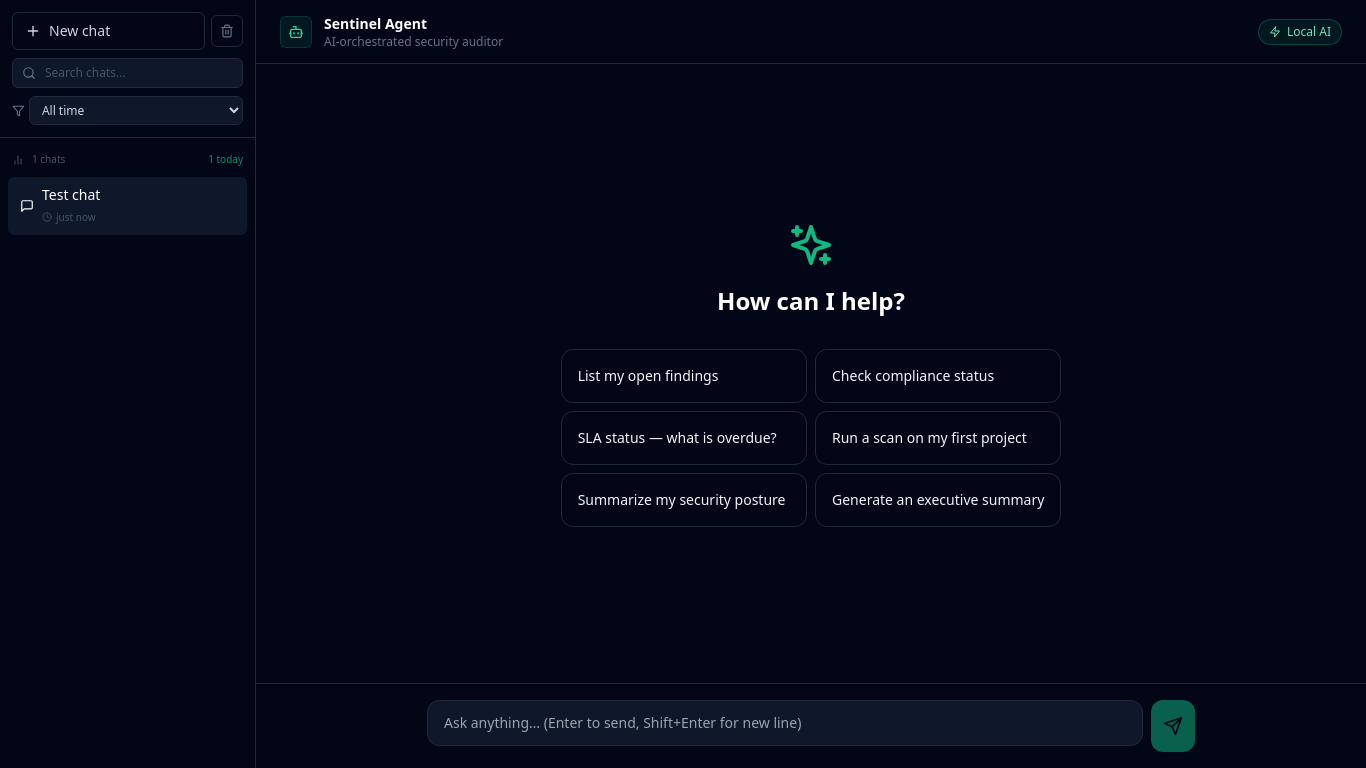
Scenario: Chat — conversations list and sidebar › searches/filters conversations
The width and height of the screenshot is (1366, 768).
Expected: the text "Test chat" is shown, [42,185,100,204]
In the field with placeholder "Search chats...": [128, 73] box [12,58,243,88], type "nomatch"
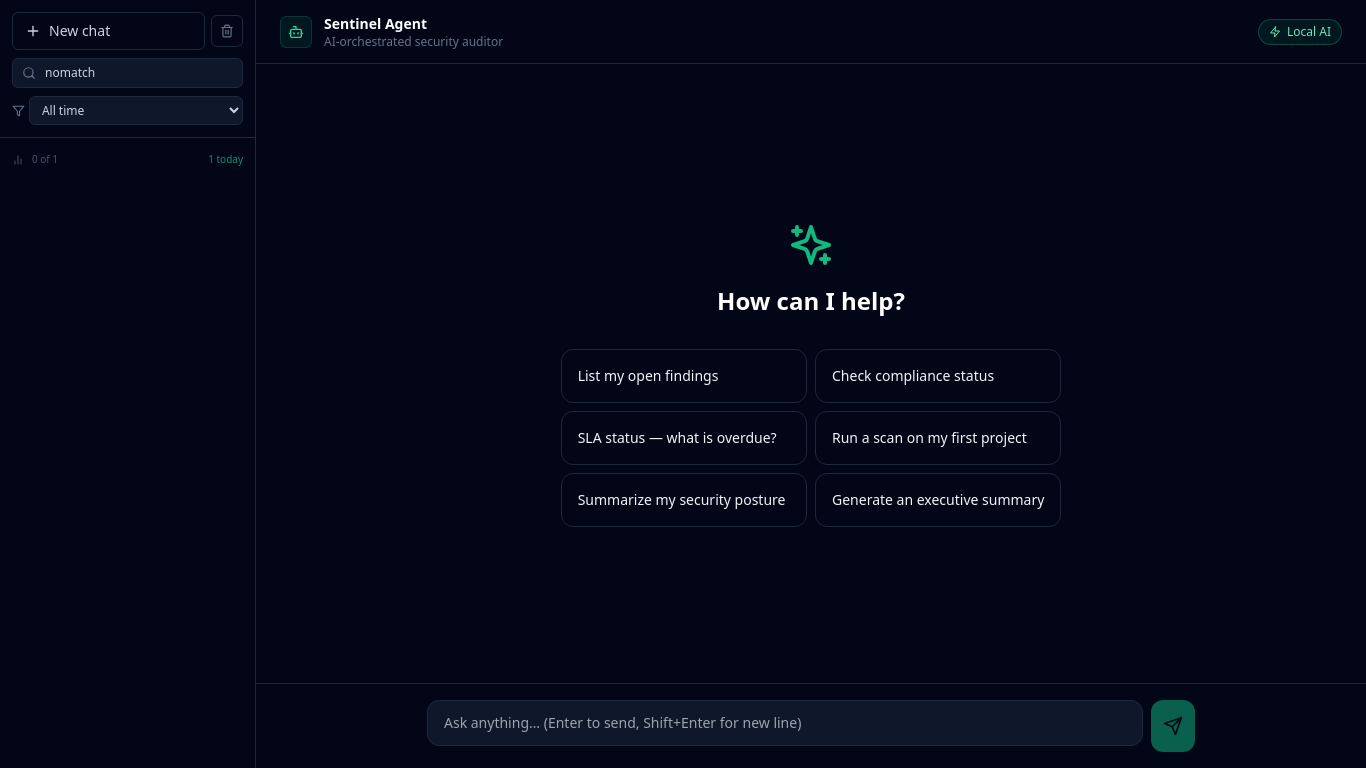
Now the text "Test chat" is gone
